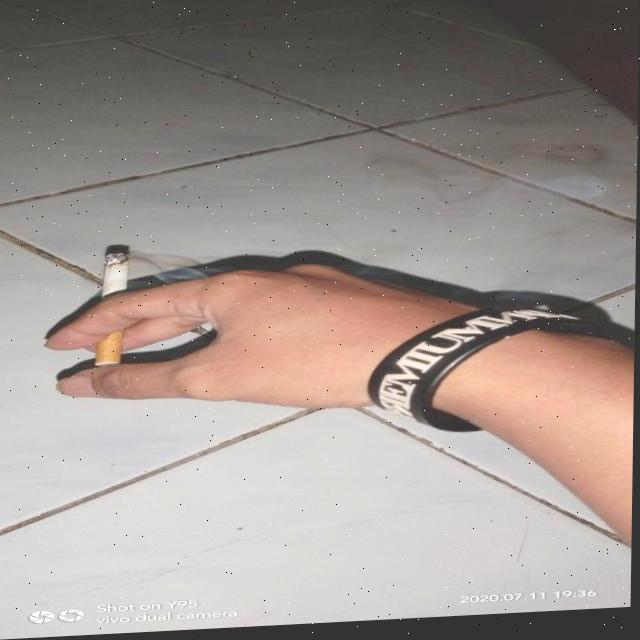cigarette: (96, 247, 133, 367)
